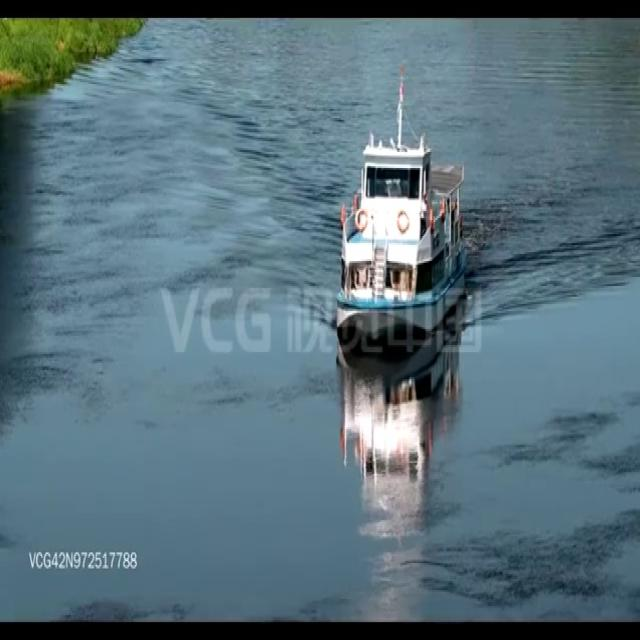passenger ship: (338, 71, 466, 344)
